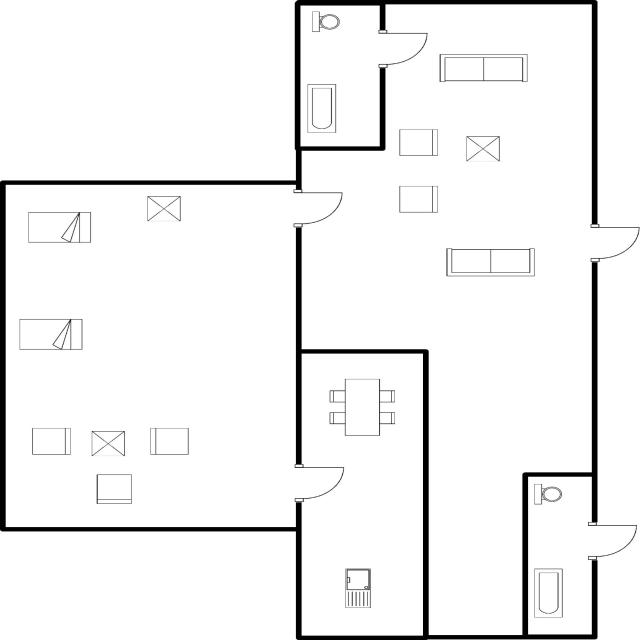bed: (24, 206, 94, 248), (16, 315, 87, 355)
coffee_table: (140, 190, 186, 228), (461, 128, 506, 164), (84, 427, 130, 457)
dining_table: (323, 373, 401, 441)
large_sink: (306, 7, 344, 37), (530, 480, 565, 511)
large_sofa: (431, 49, 534, 86), (440, 244, 539, 282)
sink: (338, 564, 376, 612)
small_sofa: (90, 470, 138, 510), (395, 182, 445, 218), (26, 424, 76, 460), (145, 423, 192, 461), (395, 125, 442, 160)
tub: (531, 565, 571, 622), (303, 80, 343, 136)
